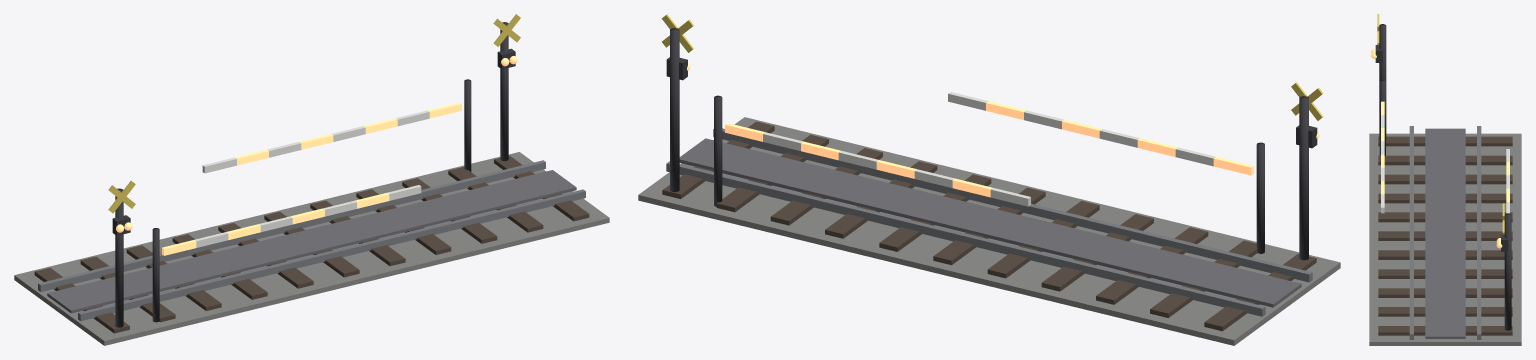
Rendered from prop_fumikiri.glb.
The picture shows the model from 3 angles, left to right: view 1: azimuth 30°, elevation 25°; view 2: azimuth 150°, elevation 25°; view 3: azimuth 270°, elevation 25°; orthographic projection. The views are drawn at different scales.
Parts seen in each view (by area): view 1: fumikiri; view 2: fumikiri; view 3: fumikiri.
Part boxes in pixels (x1,y1,x2,y2): fumikiri: (14, 14, 609, 345); fumikiri: (638, 14, 1340, 345); fumikiri: (1369, 14, 1521, 345).
Size of the model in its own units: 11 by 3.19 by 3.4.
